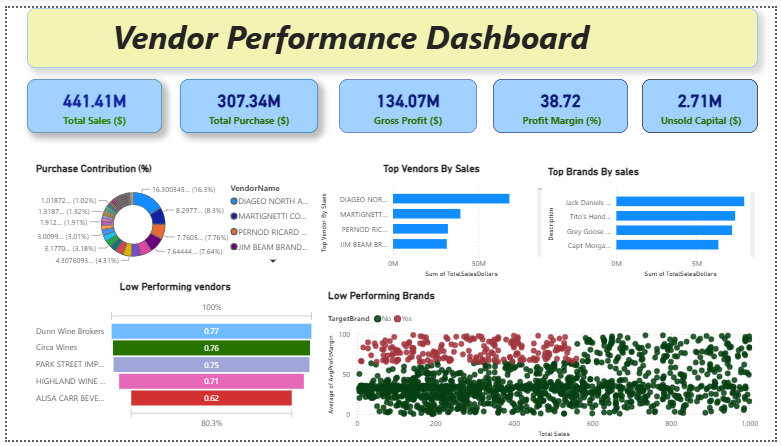

Layout of this report page (visuals, bound fields, positions):
{"tool":"powerbi","page":{"name":"Page 1","canvas":[1280,720],"ordinal":0},"visuals":[{"type":"card","fields":{"Values":["Sum(vendor_sales_summary.TotalSalesDollars)"]},"box":[32.5,117.5,225,90],"z":0},{"type":"textbox","box":[257.5,0,862.5,55],"z":1000},{"type":"textbox","box":[445,42.5,835,75],"z":2000},{"type":"textbox","box":[33,303.5,280,150],"z":3000},{"type":"textbox","box":[32.5,0,1217.5,100],"z":4000},{"type":"card","fields":{"Values":["Sum(vendor_sales_summary.TotalPurchaseDollars)"]},"box":[287.5,117.5,230,90],"z":5000},{"type":"card","fields":{"Values":["Sum(vendor_sales_summary.GrossProfit)"]},"box":[552.5,117.5,230,90],"z":6000},{"type":"card","fields":{"Values":["Avg(vendor_sales_summary.ProfitMargin)"]},"box":[810,117.5,225,90],"z":7000},{"type":"card","fields":{"Values":["Sum(vendor_sales_summary.UnsoldCapital)"]},"box":[1057.5,117.5,192.5,90],"z":8000},{"type":"donutChart","title":"Purchase Contribution (%)","fields":{"Category":["PurchaseContribution.VendorName"],"Y":["Sum(PurchaseContribution.PurchaseContribution%)"]},"box":[44,256,474,178],"z":9000},{"type":"clusteredBarChart","title":"Top Vendors By Sales","fields":{"Category":["vendor_sales_summary.VendorName"],"Y":["Sum(vendor_sales_summary.TotalSalesDollars)"]},"box":[518.3,256.7,378.3,196.7],"z":10000},{"type":"clusteredBarChart","title":"Top Brands By sales","fields":{"Category":["vendor_sales_summary.Description"],"Y":["Sum(vendor_sales_summary.TotalSalesDollars)"]},"box":[896.7,261.7,355,191.7],"z":11000},{"type":"funnel","title":"Low Performing vendors","fields":{"Category":["LowTurnoverVendor.VendorName"],"Y":["Avg(LowTurnoverVendor.AvgStockTurnOver)"]},"box":[44,454,474,252],"z":12000},{"type":"scatterChart","title":"Low Performing Brands","fields":{"Category":["BrandPerformance.Description"],"X":["Avg(BrandPerformance.TotalSales)"],"Series":["BrandPerformance.TargetBrand"],"Y":["Avg(BrandPerformance.AvgProfitMargin)"]},"box":[530,467.5,732,252],"z":13000}]}

Visuals, with their boxes in screenshot pixels (x1, y1, x2, y2), scaled from the page's 1280x720 canvas onto the 781x446 screenshot:
card - Sum(vendor_sales_summary.TotalSalesDollars): (left=20, top=73, right=157, bottom=129)
textbox: (left=157, top=0, right=683, bottom=34)
textbox: (left=272, top=26, right=780, bottom=73)
textbox: (left=20, top=188, right=191, bottom=281)
textbox: (left=20, top=0, right=763, bottom=62)
card - Sum(vendor_sales_summary.TotalPurchaseDollars): (left=175, top=73, right=316, bottom=129)
card - Sum(vendor_sales_summary.GrossProfit): (left=337, top=73, right=477, bottom=129)
card - Avg(vendor_sales_summary.ProfitMargin): (left=494, top=73, right=632, bottom=129)
card - Sum(vendor_sales_summary.UnsoldCapital): (left=645, top=73, right=763, bottom=129)
"Purchase Contribution (%)" donutChart: (left=27, top=159, right=316, bottom=269)
"Top Vendors By Sales" clusteredBarChart: (left=316, top=159, right=547, bottom=281)
"Top Brands By sales" clusteredBarChart: (left=547, top=162, right=764, bottom=281)
"Low Performing vendors" funnel: (left=27, top=281, right=316, bottom=437)
"Low Performing Brands" scatterChart: (left=323, top=290, right=770, bottom=445)
